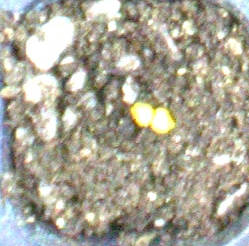pepper seed: (61, 40, 237, 174), (52, 38, 207, 165)
